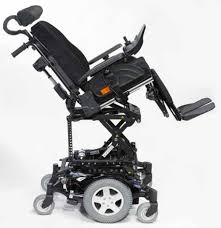wheelchair: (3, 3, 209, 131)
